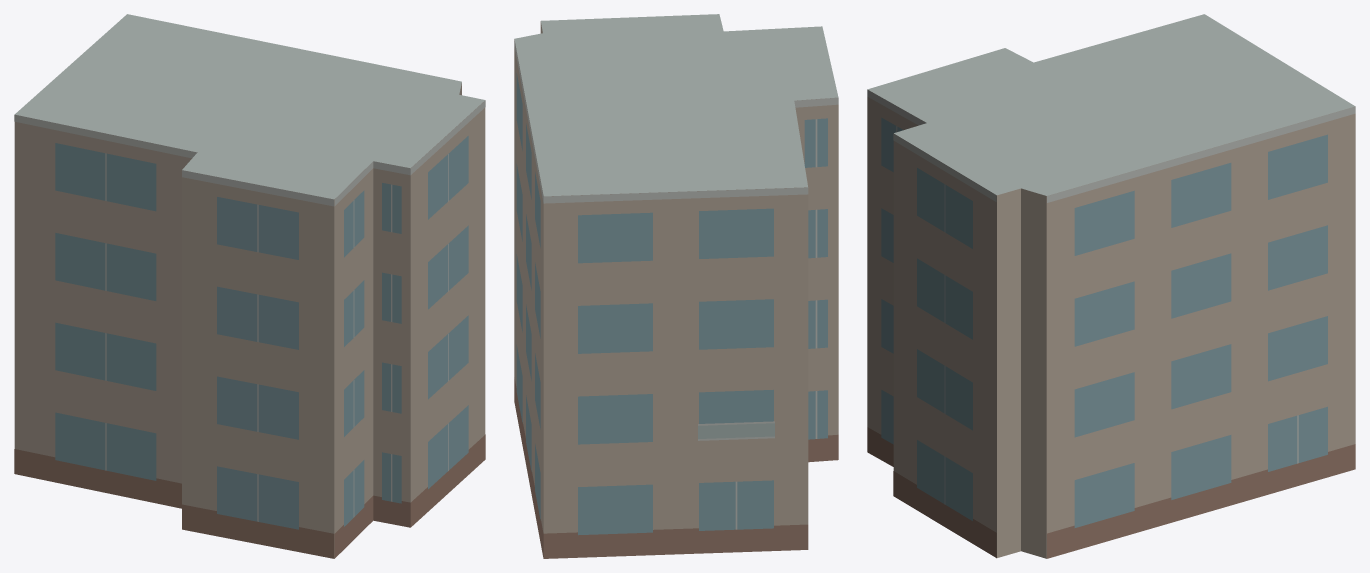
File: survey-upis-32526295.glb
3 views of the same model, side by side, from view 1: azimuth 30°, elevation 25°; view 2: azimuth 150°, elevation 25°; view 3: azimuth 270°, elevation 25° (orthographic).
Visible parts, largest first — view 1: survey-upis-32526295.tmp; view 2: survey-upis-32526295.tmp; view 3: survey-upis-32526295.tmp.
Part boxes in pixels (bbox=[...]): survey-upis-32526295.tmp: bbox=[14, 14, 485, 558]; survey-upis-32526295.tmp: bbox=[514, 14, 838, 558]; survey-upis-32526295.tmp: bbox=[867, 14, 1355, 558].
Bounding box in the file's own units: 13.31 × 12.36 × 15.08.
